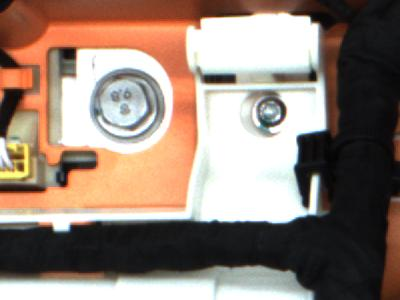screw_m: (245, 93, 294, 136)
